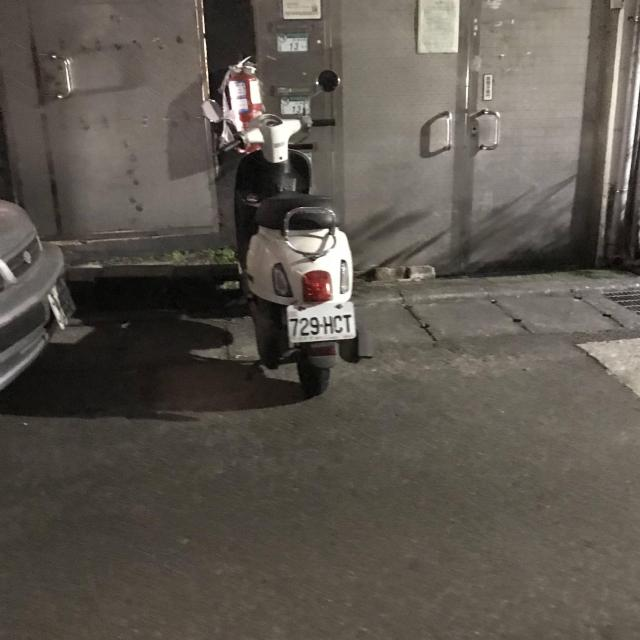W: (279, 295, 361, 343)
